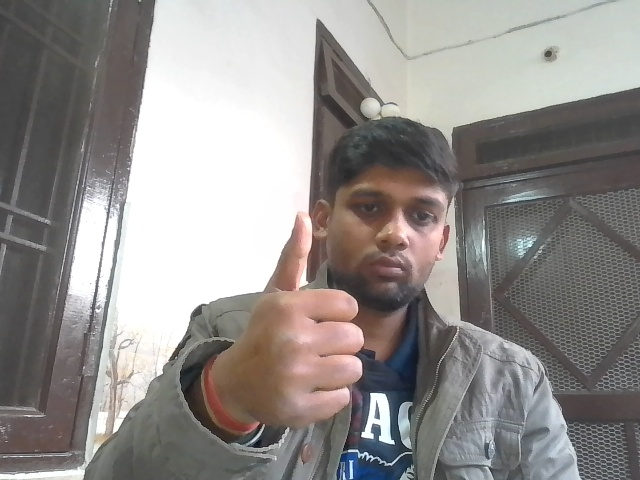BestOfLuck: (248, 211, 365, 425)
